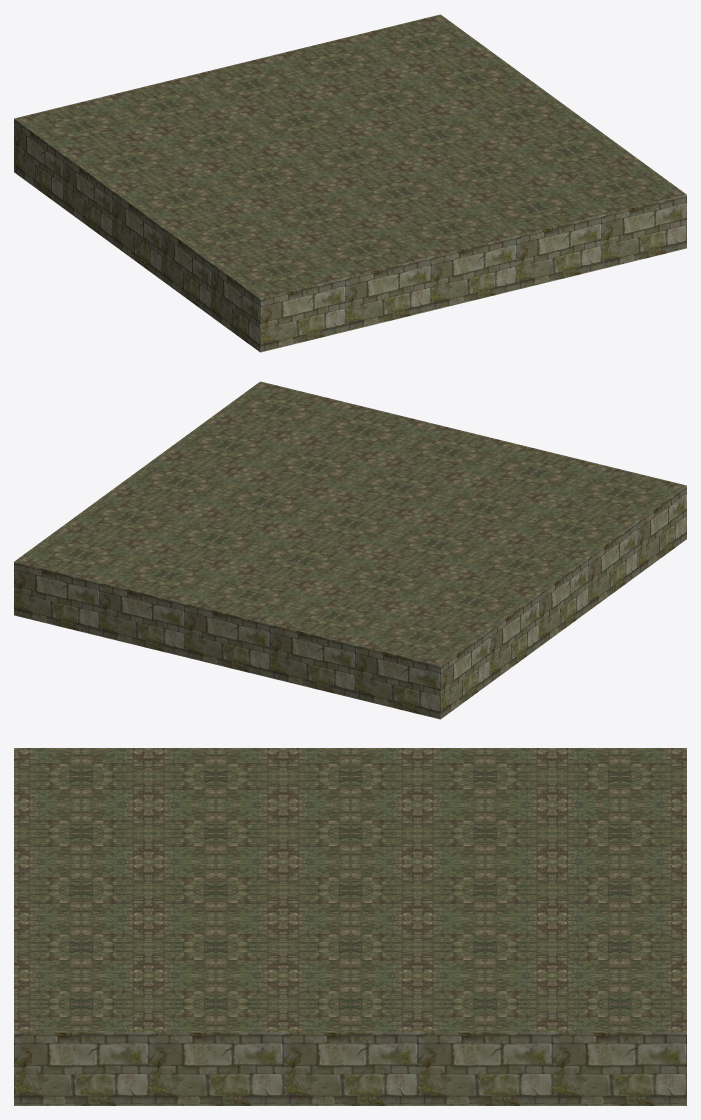
The model's file is bottom-floor-01-5x5.fbx.
3 renders of one model, top to bottom at view 1: azimuth 30°, elevation 25°; view 2: azimuth 150°, elevation 25°; view 3: azimuth 270°, elevation 25°, orthographic. The views are drawn at different scales.
Parts seen in each view (by area): view 1: Plane.040; view 2: Plane.040; view 3: Plane.040.
Part boxes in pixels (x1,y1,x2,y2): Plane.040: (14, 14, 686, 352); Plane.040: (14, 381, 686, 719); Plane.040: (14, 748, 686, 1105).
Size of the model in its own units: 5 by 0.6014 by 5.
